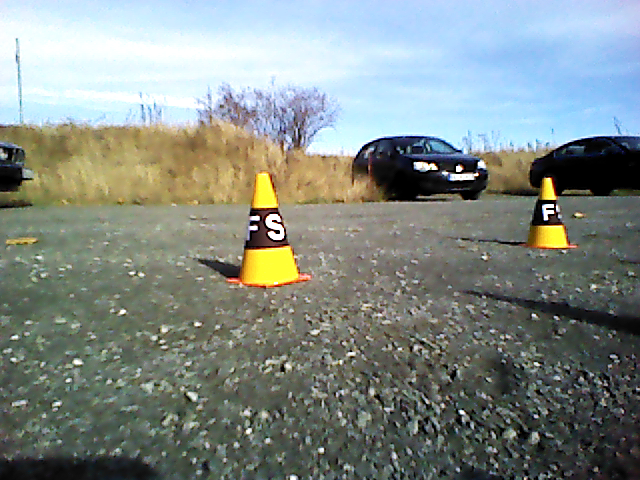yellowcone: (243, 174, 295, 281), (531, 178, 567, 246)
